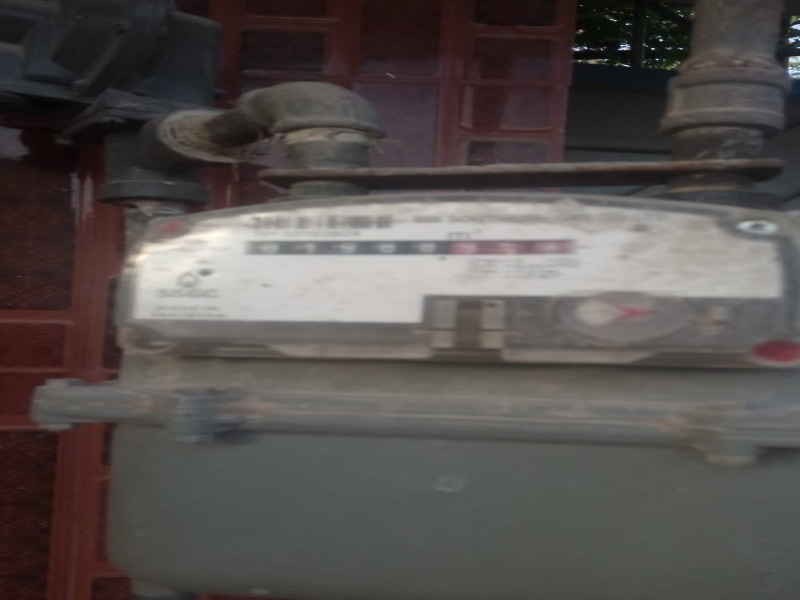ssgc: (242, 235, 579, 256)
